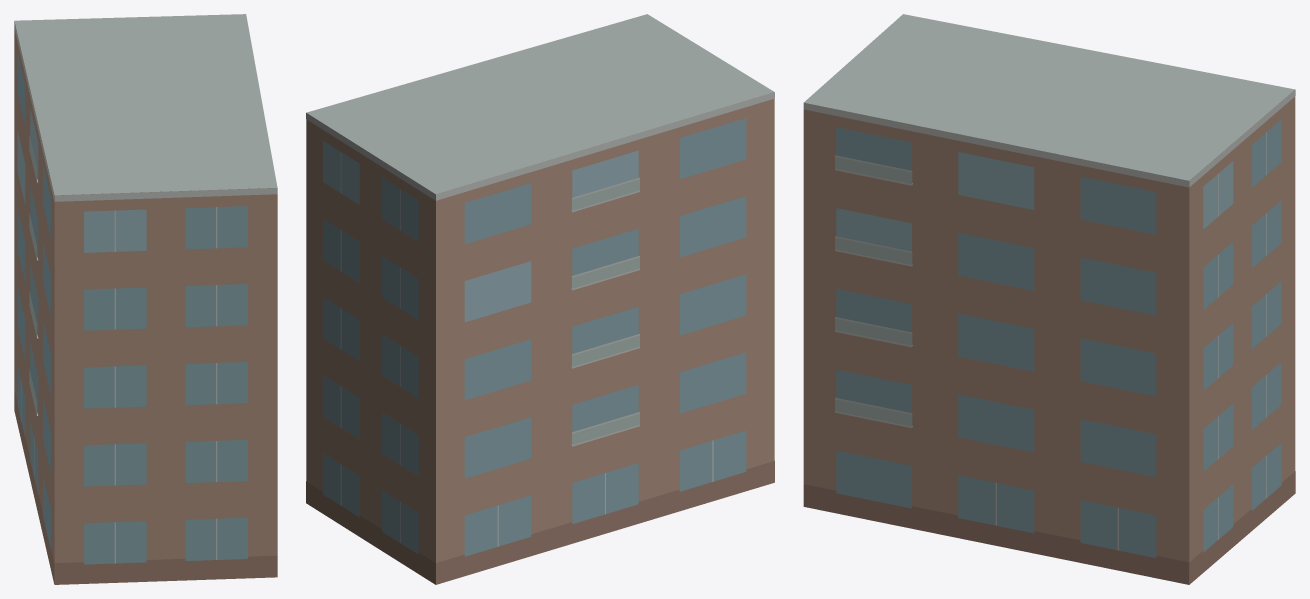
File: survey-upis-32656373.glb
The picture shows the model from 3 angles, left to right: view 1: azimuth 30°, elevation 25°; view 2: azimuth 150°, elevation 25°; view 3: azimuth 270°, elevation 25°; orthographic projection. The views are drawn at different scales.
Visible parts, largest first — view 1: survey-upis-32656373.tmp; view 2: survey-upis-32656373.tmp; view 3: survey-upis-32656373.tmp.
Boxes of the visible parts, bbox=[...] form: survey-upis-32656373.tmp: bbox=[14, 14, 277, 584]; survey-upis-32656373.tmp: bbox=[306, 14, 774, 584]; survey-upis-32656373.tmp: bbox=[803, 14, 1295, 584].
Bounding box in the file's own units: 13.02 × 14.7 × 16.23.
